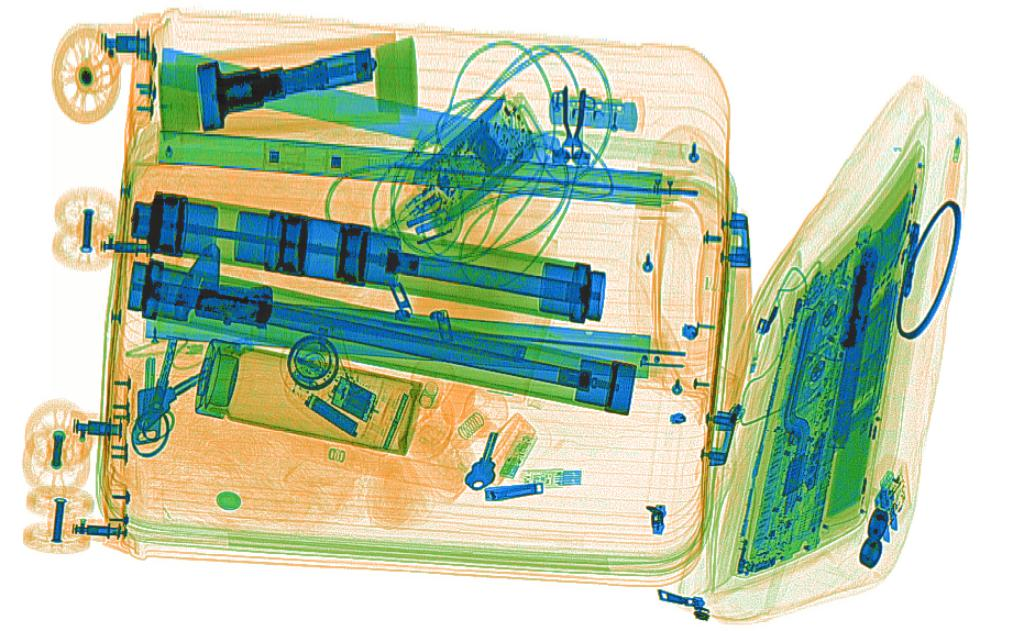USBFlashDisk: (498, 429, 534, 480), (521, 463, 582, 490)
battery: (303, 396, 359, 437)
seal: (398, 382, 512, 502), (378, 358, 456, 459)
